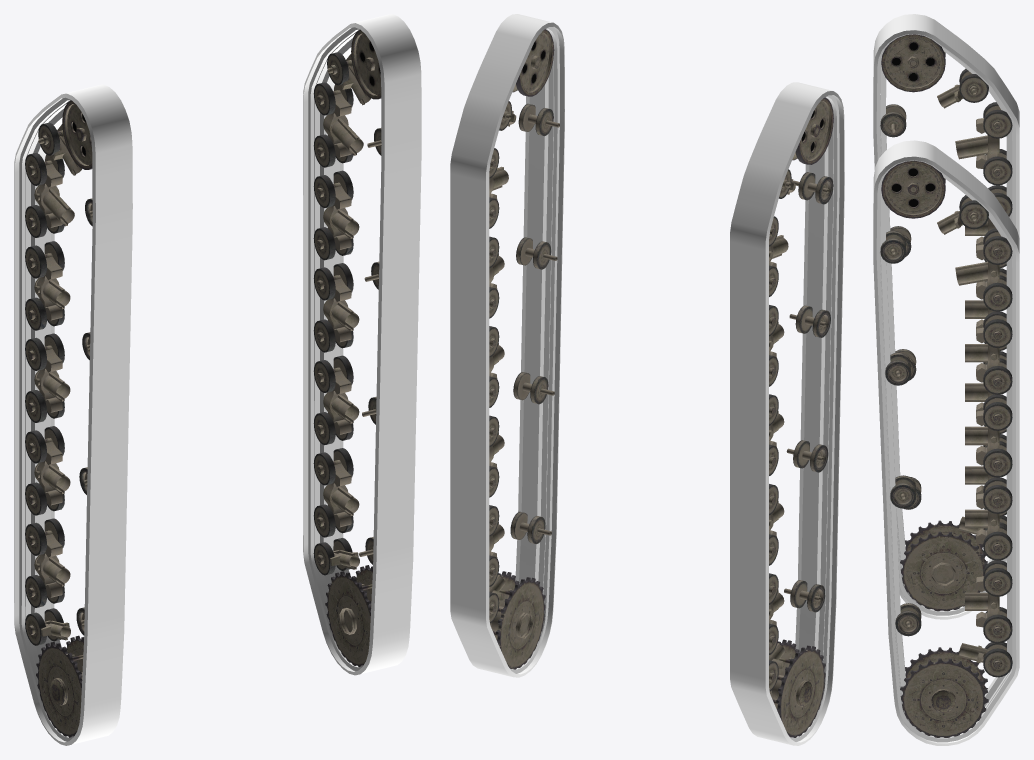
Rendered from Chassis.glb.
3 renders of one model, left to right at view 1: azimuth 30°, elevation 25°; view 2: azimuth 150°, elevation 25°; view 3: azimuth 270°, elevation 25°, orthographic. The views are drawn at different scales.
Parts seen in each view (by area): view 1: set_0_group_0, set_1_group_0, set_5_group_0, set_3_group_0, set_4_group_0, set_2_group_0; view 2: set_1_group_0, set_0_group_0, set_5_group_0, set_3_group_0, set_4_group_0, set_2_group_0; view 3: set_5_group_0, set_1_group_0, set_3_group_0, set_0_group_0, set_4_group_0, set_2_group_0.
Boxes of the visible parts, x1,y1,x2,y2 form: set_0_group_0: (14, 84, 132, 745); set_1_group_0: (303, 14, 421, 675); set_5_group_0: (313, 29, 381, 666); set_3_group_0: (25, 100, 92, 737); set_4_group_0: (323, 90, 363, 527); set_2_group_0: (34, 160, 74, 597); set_1_group_0: (450, 14, 564, 677); set_0_group_0: (730, 82, 844, 745); set_5_group_0: (489, 29, 559, 669); set_3_group_0: (769, 97, 833, 737); set_4_group_0: (489, 166, 508, 557); set_2_group_0: (769, 235, 788, 626); set_5_group_0: (880, 160, 1012, 737); set_1_group_0: (873, 140, 1019, 745); set_3_group_0: (880, 34, 1012, 611); set_0_group_0: (873, 14, 1019, 619); set_4_group_0: (955, 244, 999, 627); set_2_group_0: (955, 118, 999, 494).
Bounding box in the file's own units: 2.74 × 5.24 × 1.18.
6 materials, 4 textured.
